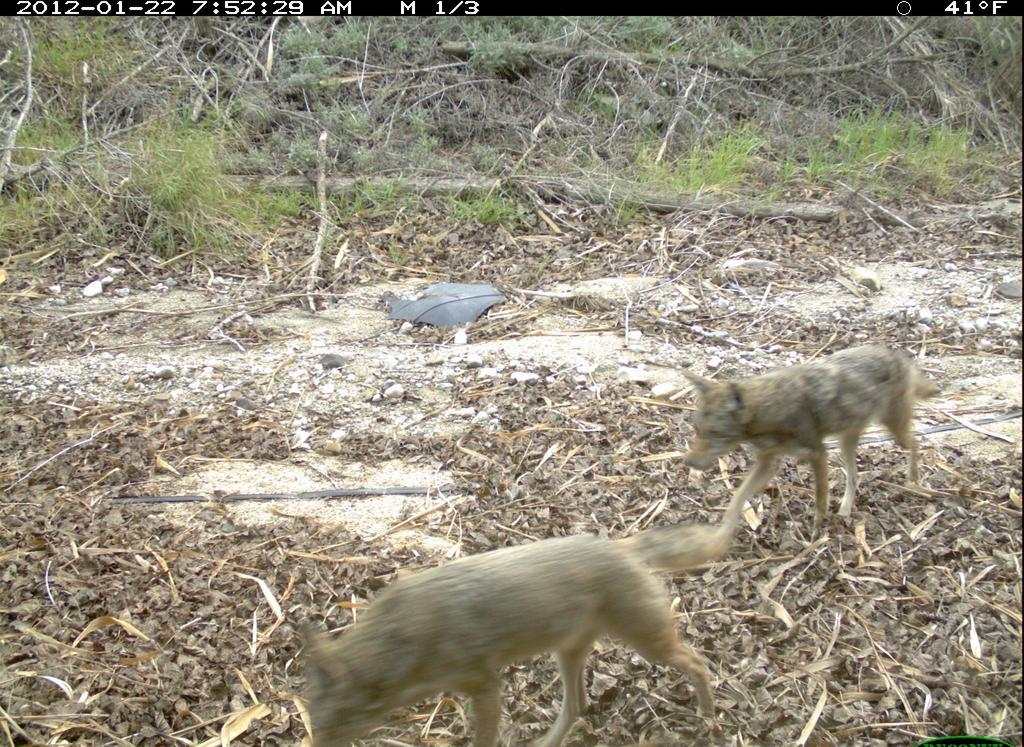coyote: (283, 520, 751, 747), (670, 336, 944, 534)
